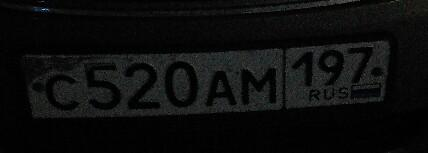license-plateSW: (24, 41, 393, 121)
